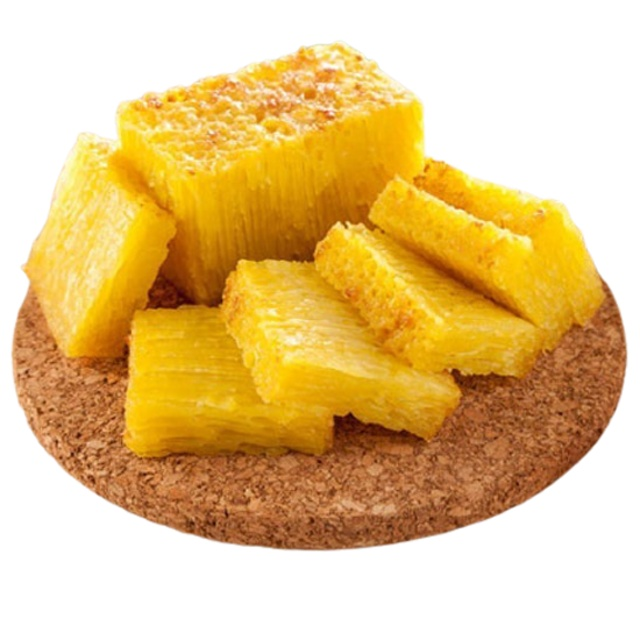bika_ambon: (87, 181, 638, 434), (177, 81, 465, 295), (17, 130, 148, 358)
